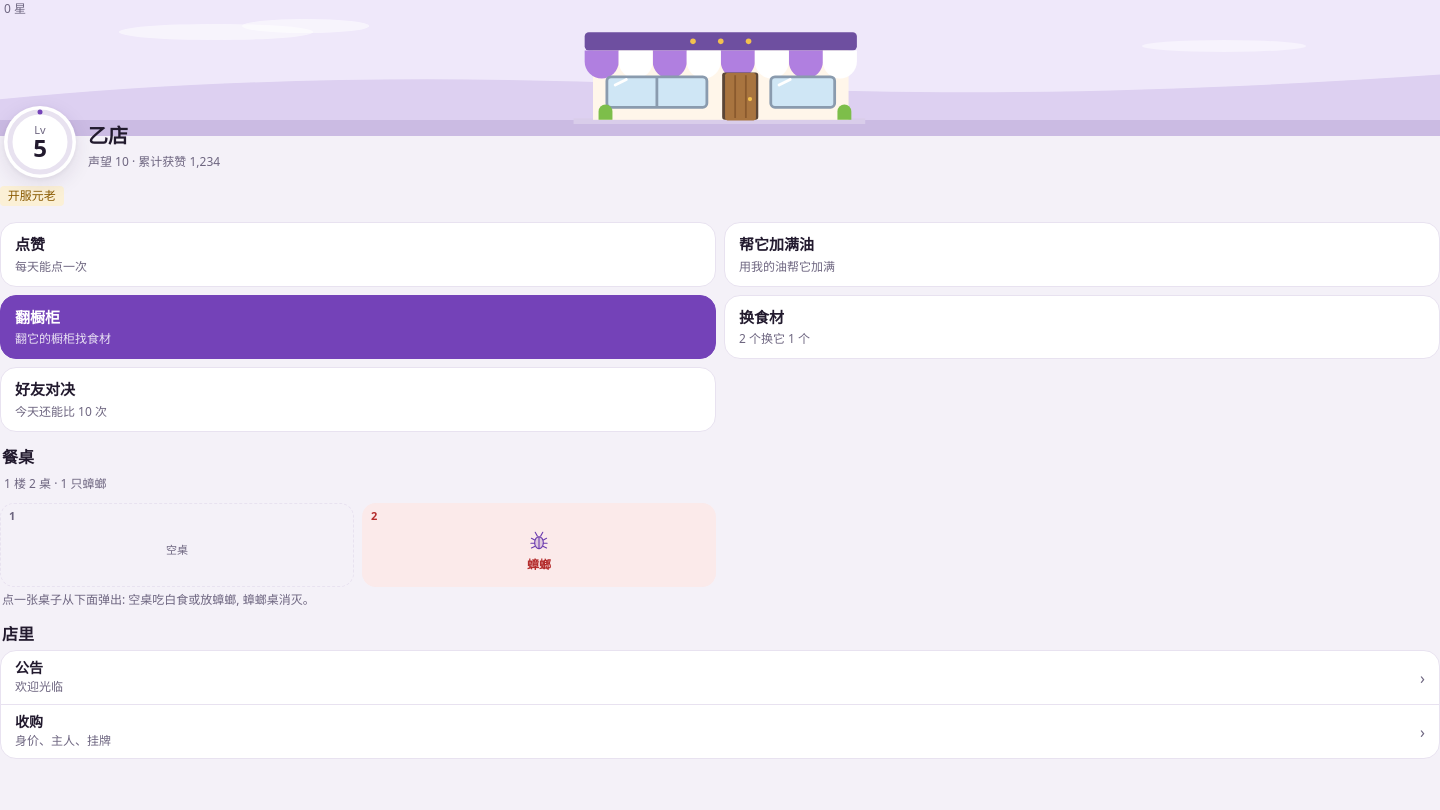
Test: FriendRestView › 自己放的蟑螂：写明不能自己消灭，不写“不能操作”（问题记录 374）
Click the button with test id "table-2".
click(539, 545)  # box [362,503,716,587]
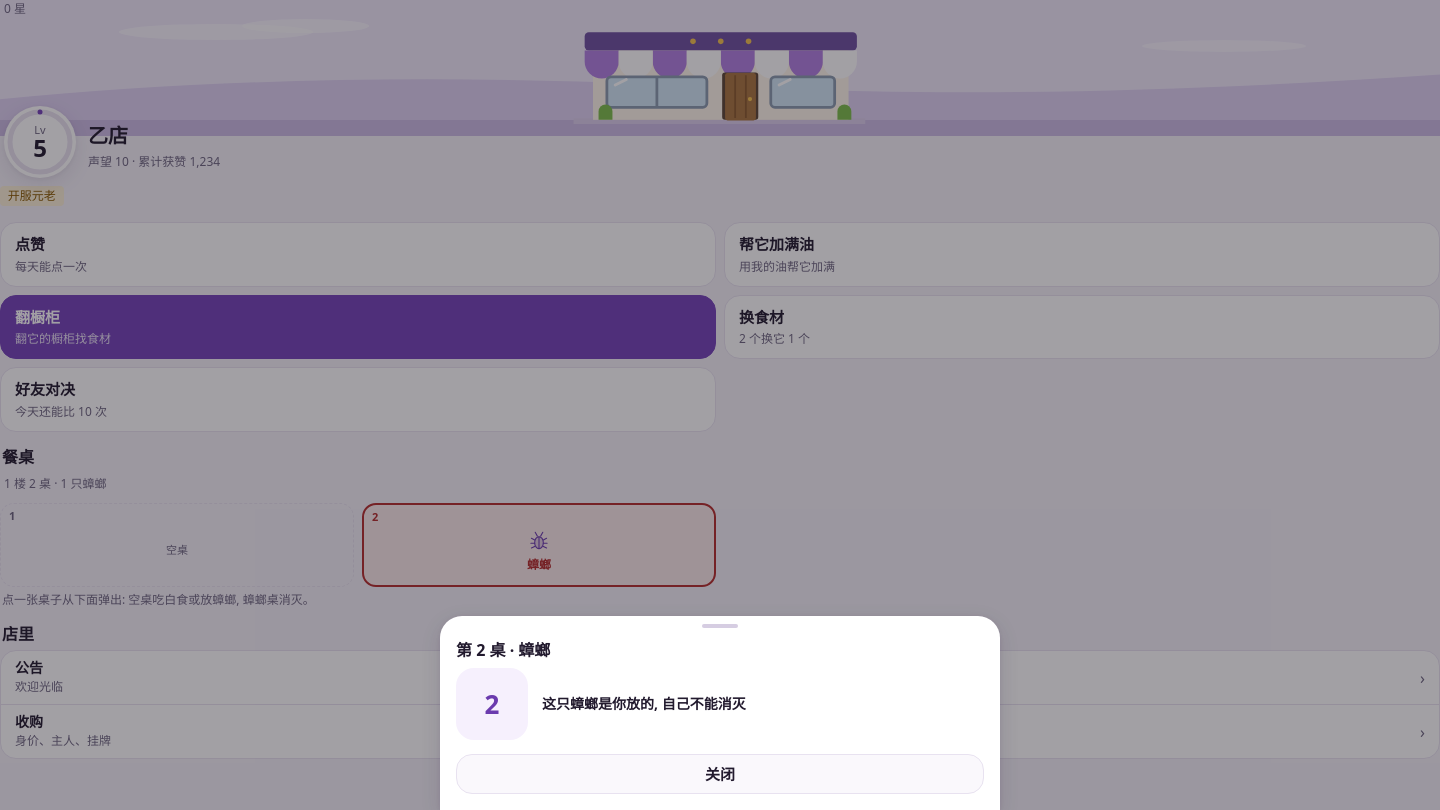
Result: the text with test id "own-roach" reads "这只蟑螂是你放的, 自己不能消灭" at [542,694,746,713]
